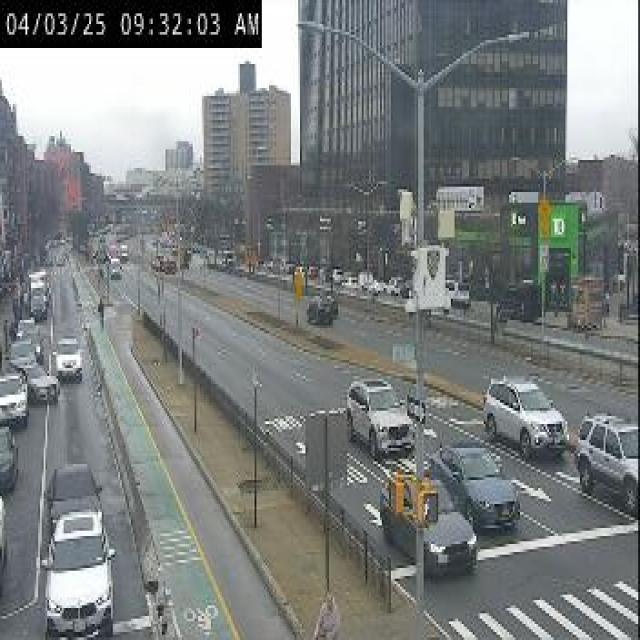open parking: (1, 270, 58, 573)
